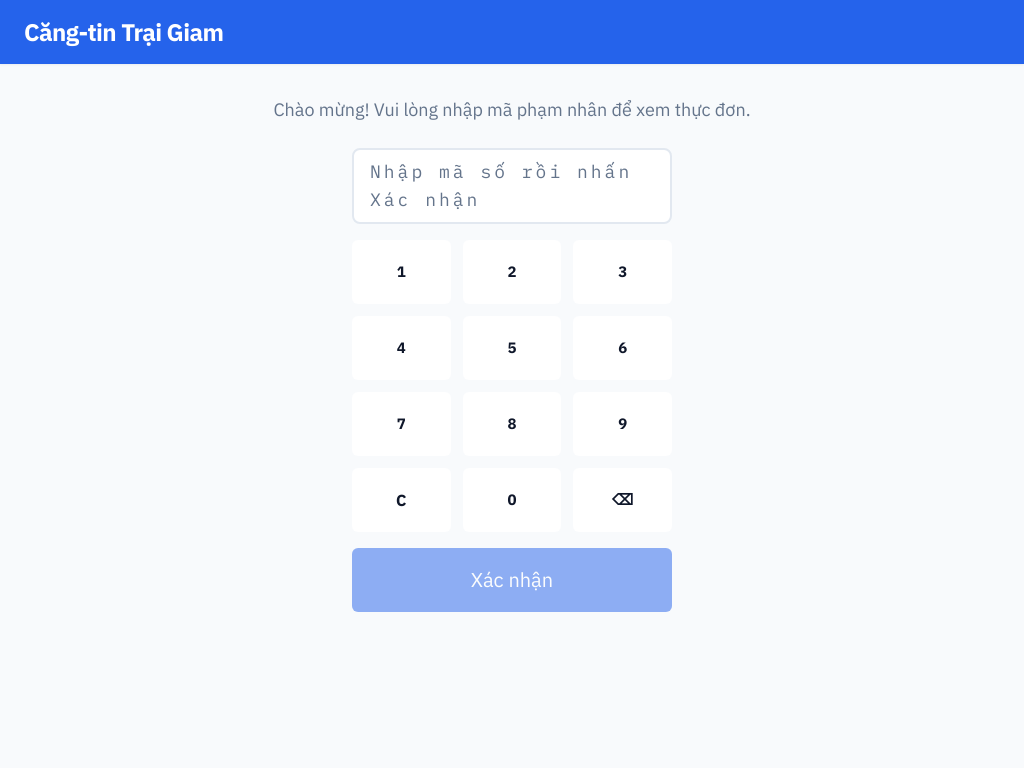
CanteenPage — post-order branching › renders exactly the approved identity and location values after lookup
Click the button named "chữ số 1" at (401, 272), box [352,240,451,304]
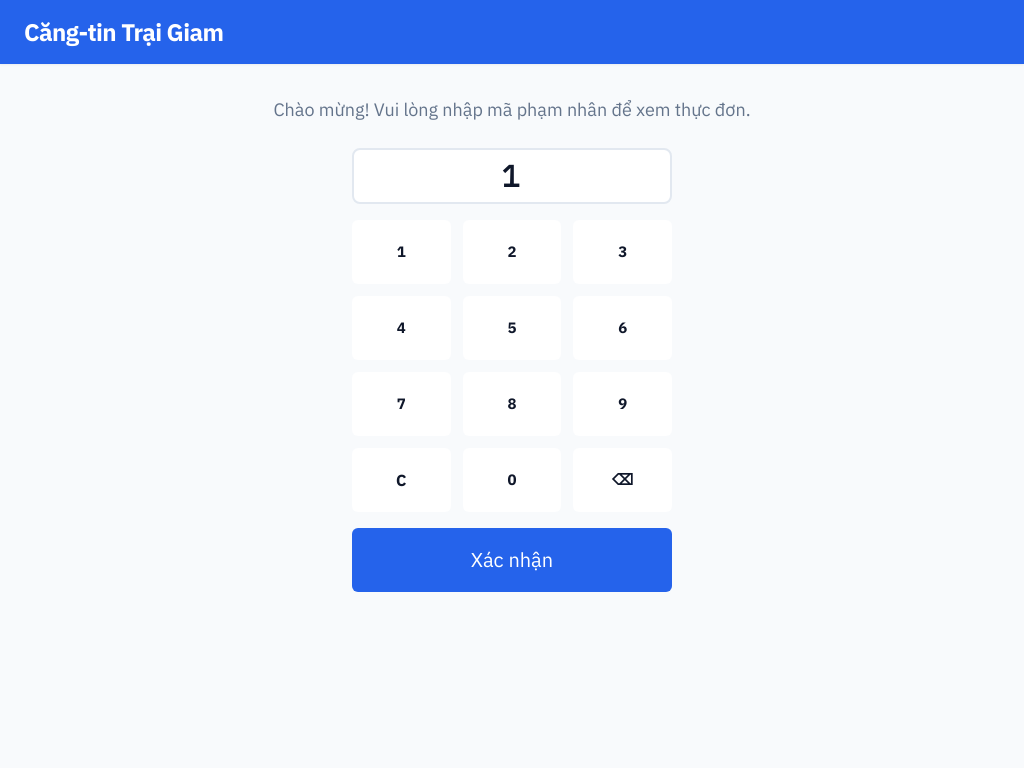
Click the button "Xác nhận" at (512, 560), box [352,528,672,592]
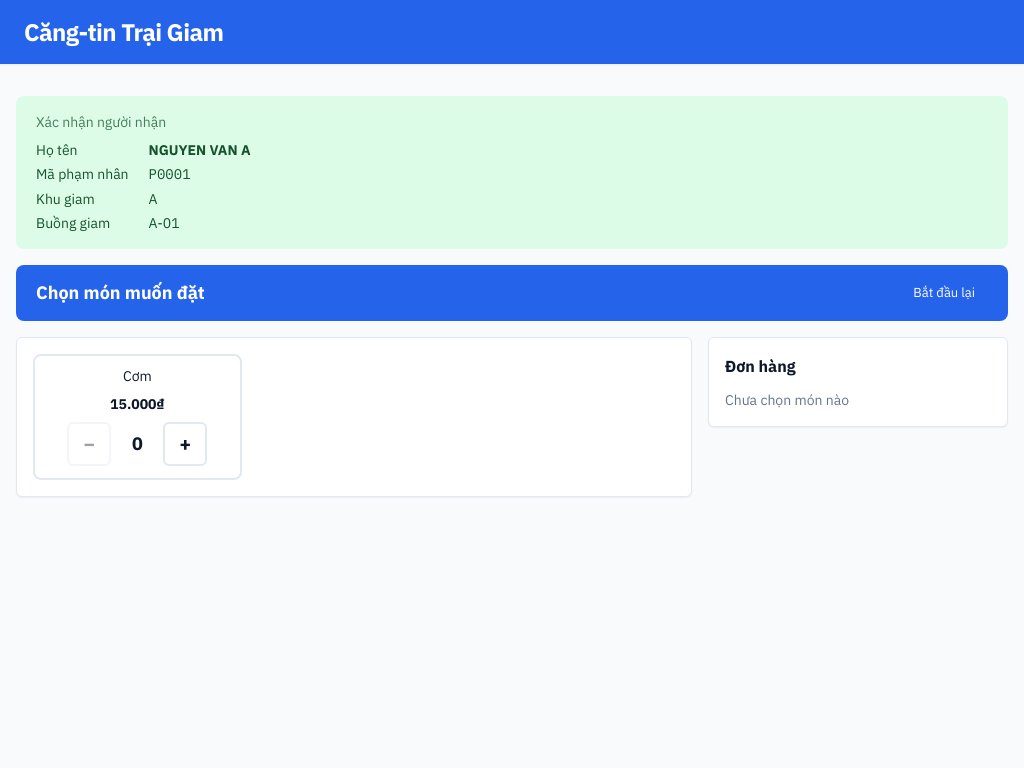
Check: the text "NGUYEN VAN A" is shown, box [149,141,250,159]
Check: the text "P0001" is shown, box [149,165,191,183]
Check: the text "A" is shown, box [149,190,158,208]
